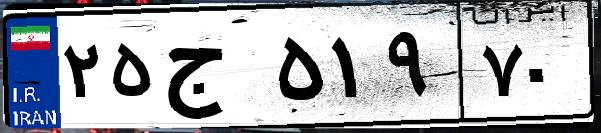0: (525, 38, 570, 115)
1: (330, 28, 385, 110)
2: (57, 26, 110, 100)
5: (270, 28, 330, 110), (110, 28, 158, 98)
7: (475, 38, 525, 113)
9: (385, 28, 445, 110)
ج: (158, 20, 270, 120)
